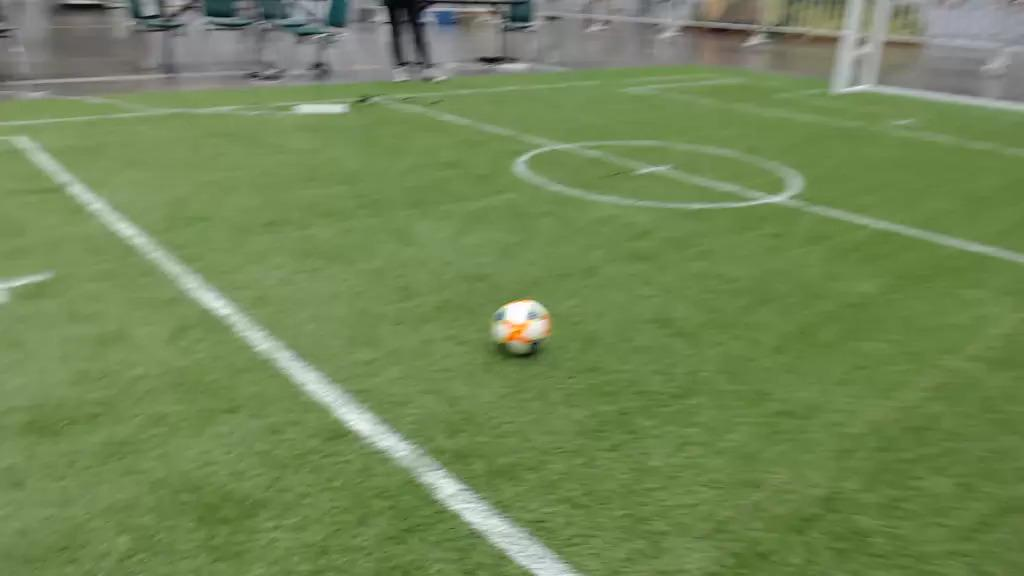ball: (493, 299, 548, 357)
